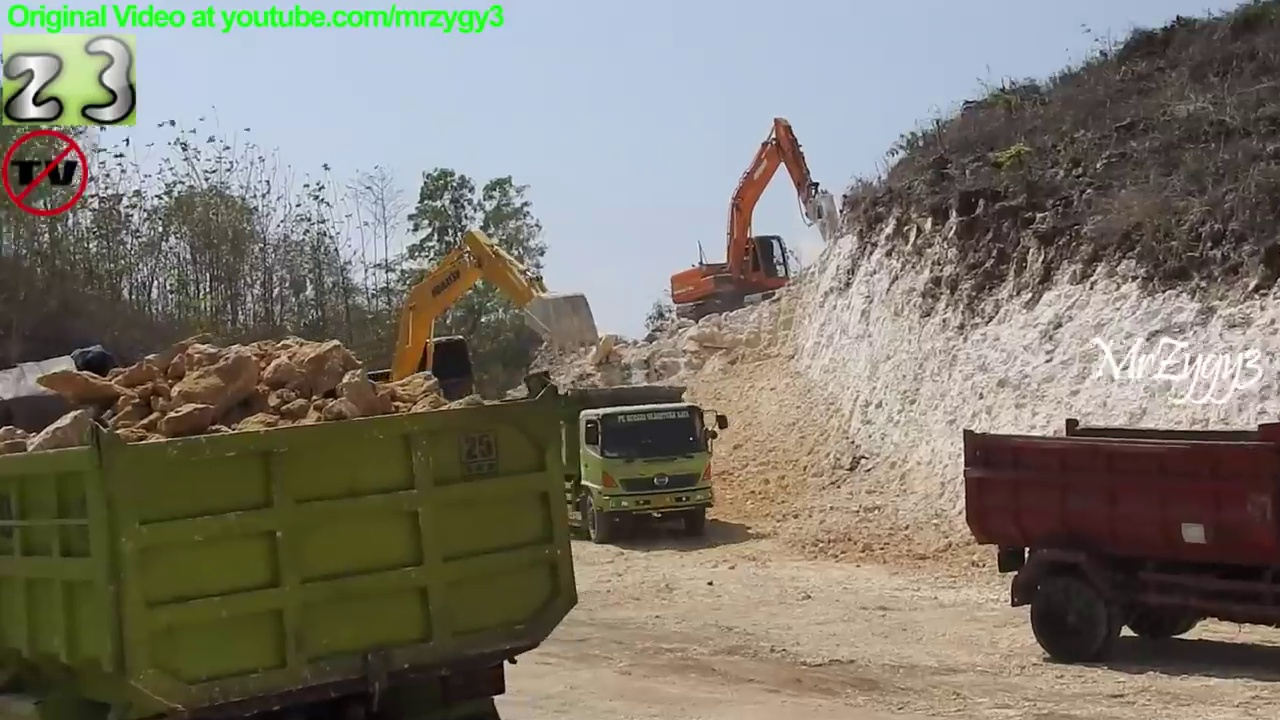excavator: (950, 413, 1280, 670), (315, 219, 605, 495), (665, 113, 850, 326)
truck: (1, 357, 588, 720), (410, 375, 733, 548)
